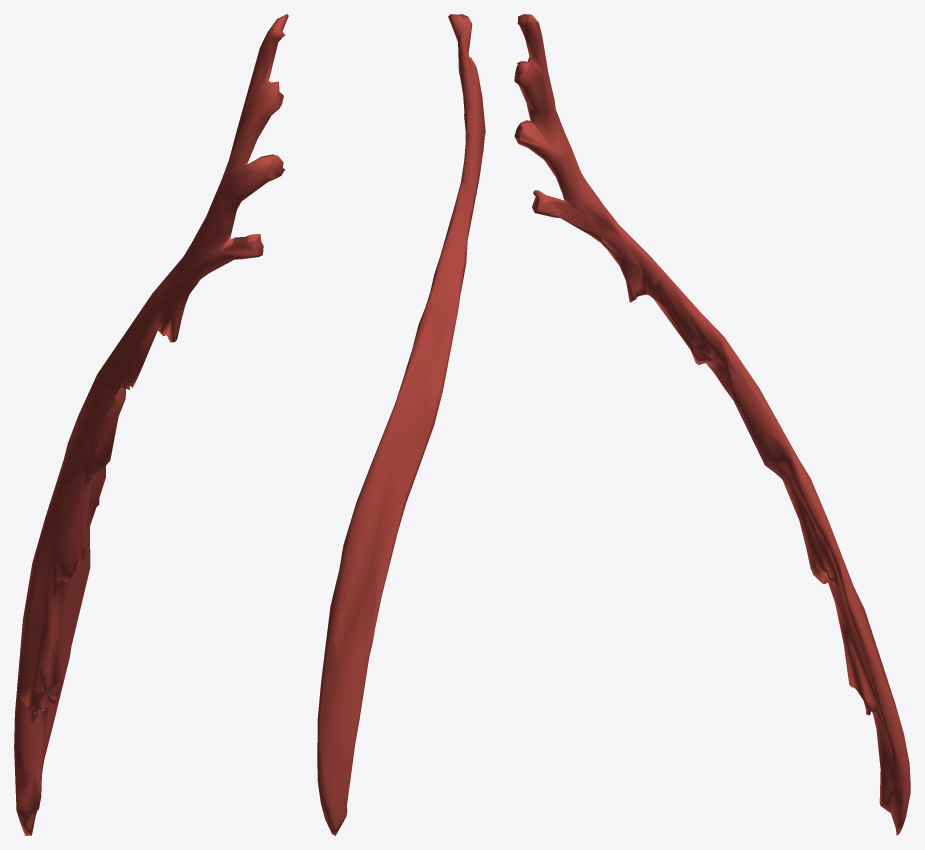
File: musculos-longissimus-colli-muscle-r.glb
3 renders of one model, left to right at view 1: azimuth 30°, elevation 25°; view 2: azimuth 150°, elevation 25°; view 3: azimuth 270°, elevation 25°, orthographic. The views are drawn at different scales.
Parts seen in each view (by area): view 1: Longissimus colli muscle.r; view 2: Longissimus colli muscle.r; view 3: Longissimus colli muscle.r.
Part boxes in pixels (box(x1,y1,x2,y2)): Longissimus colli muscle.r: box(14, 14, 288, 835); Longissimus colli muscle.r: box(317, 14, 485, 835); Longissimus colli muscle.r: box(514, 14, 910, 835).
Size of the model in its own units: 0.0191 by 0.1894 by 0.0812.
